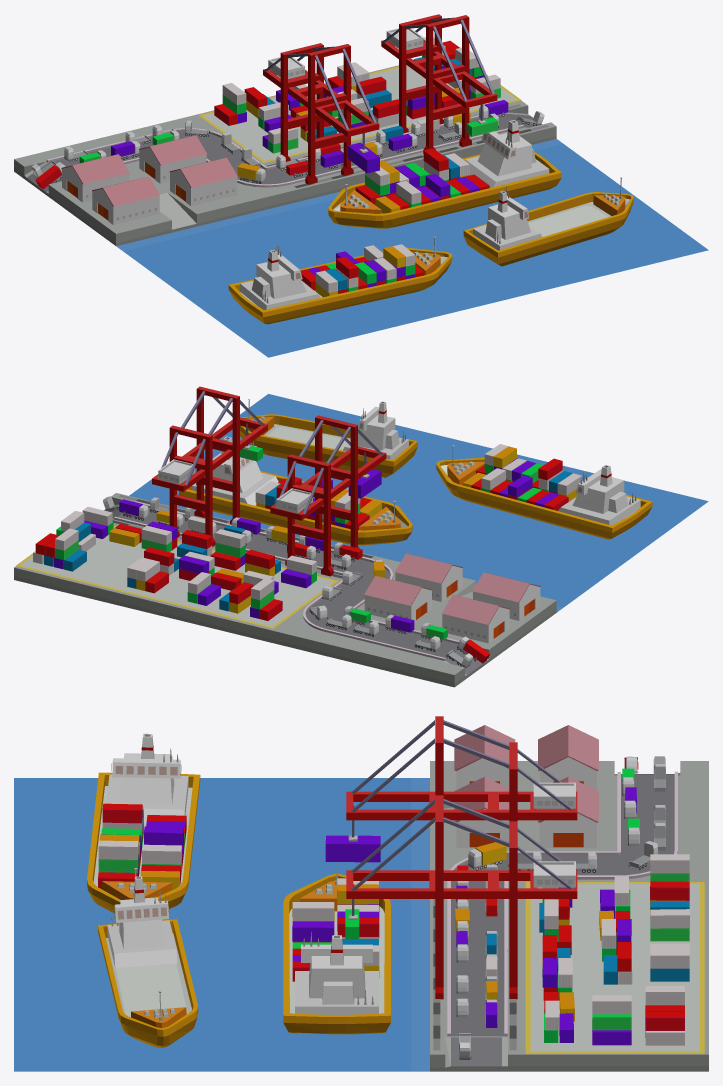
3 views of the same model, one above another, from view 1: azimuth 30°, elevation 25°; view 2: azimuth 150°, elevation 25°; view 3: azimuth 270°, elevation 25° (orthographic). The views are drawn at different scales.
Parts seen in each view (by area): view 1: o-10, o-10-.181, o-10-.113, o-10-.182, o-10-.028, o-10-.084, o-10-.147, o-10-.031, o-10-.030, o-10-.095, o-10-.097, o-10-.096 (+3 smaller); view 2: o-10, o-10-.181, o-10-.028, o-10-.084, o-10-.147, o-10-.030, o-10-.031, o-10-.182, o-10-.113, o-10-.098, o-10-.096, o-10-.097 (+2 smaller); view 3: o-10, o-10-.181, o-10-.030, o-10-.031, o-10-.113, o-10-.182, o-10-.084, o-10-.028, o-10-.147, o-10-.098, o-10-.096, o-10-.097 (+23 smaller).
Part boxes in pixels (<box>): o-10: <box>116,139,708,357</box>; o-10-.181: <box>14,65,556,246</box>; o-10-.113: <box>328,120,561,228</box>; o-10-.182: <box>463,177,633,266</box>; o-10-.028: <box>263,43,379,184</box>; o-10-.084: <box>381,14,497,153</box>; o-10-.147: <box>228,236,452,324</box>; o-10-.031: <box>46,113,523,187</box>; o-10-.030: <box>198,65,521,162</box>; o-10-.095: <box>169,157,237,206</box>; o-10-.097: <box>92,176,159,224</box>; o-10-.096: <box>139,135,206,183</box>; o-10: <box>129,394,708,612</box>; o-10-.181: <box>14,493,556,687</box>; o-10-.028: <box>270,415,386,576</box>; o-10-.084: <box>152,386,267,547</box>; o-10-.147: <box>436,445,652,539</box>; o-10-.030: <box>16,526,338,628</box>; o-10-.031: <box>114,501,459,660</box>; o-10-.182: <box>240,399,417,477</box>; o-10-.113: <box>179,436,412,545</box>; o-10-.098: <box>442,595,510,643</box>; o-10-.096: <box>364,576,432,621</box>; o-10-.097: <box>472,572,540,620</box>; o-10: <box>14,778,429,1071</box>; o-10-.181: <box>430,761,708,1071</box>; o-10-.030: <box>525,882,704,1053</box>; o-10-.031: <box>447,771,677,1036</box>; o-10-.113: <box>283,862,390,1034</box>; o-10-.182: <box>97,876,198,1047</box>; o-10-.084: <box>346,795,577,999</box>; o-10-.028: <box>346,716,577,841</box>; o-10-.147: <box>87,733,200,913</box>; o-10-.098: <box>538,725,598,789</box>; o-10-.096: <box>538,776,598,848</box>; o-10-.097: <box>454,725,515,789</box>.
Bounding box in the file's own units: 0.9874 × 0.3096 × 0.9761.
